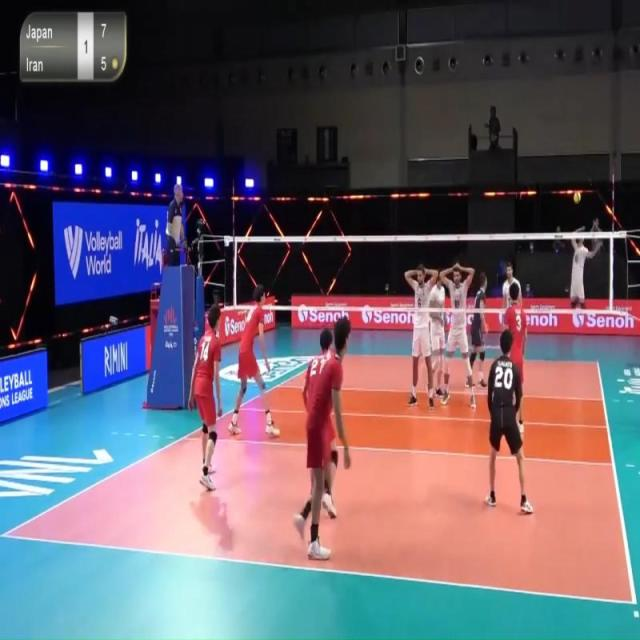volleyball: (572, 191, 582, 204)
